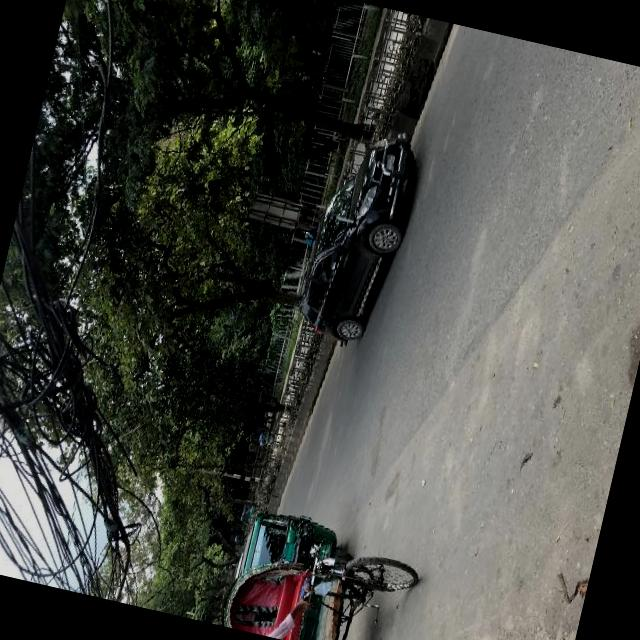car: (287, 111, 427, 352)
motorcycle: (216, 521, 420, 640), (235, 499, 362, 600), (256, 426, 276, 448), (239, 502, 255, 522), (234, 529, 248, 543)
